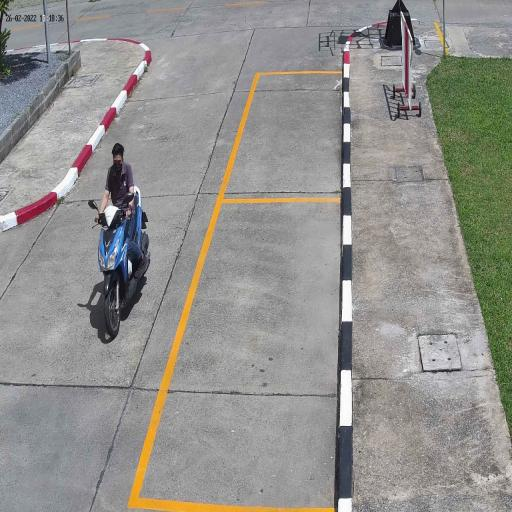motorcycle: (96, 203, 151, 338)
